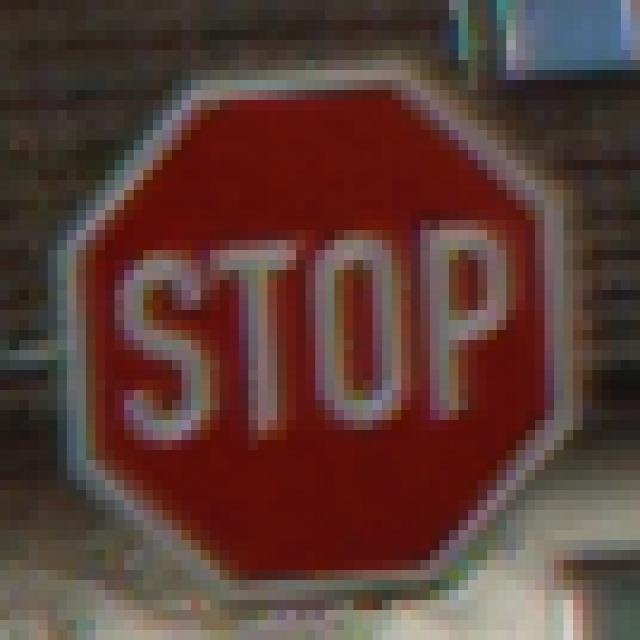STOP: (58, 51, 584, 591)
